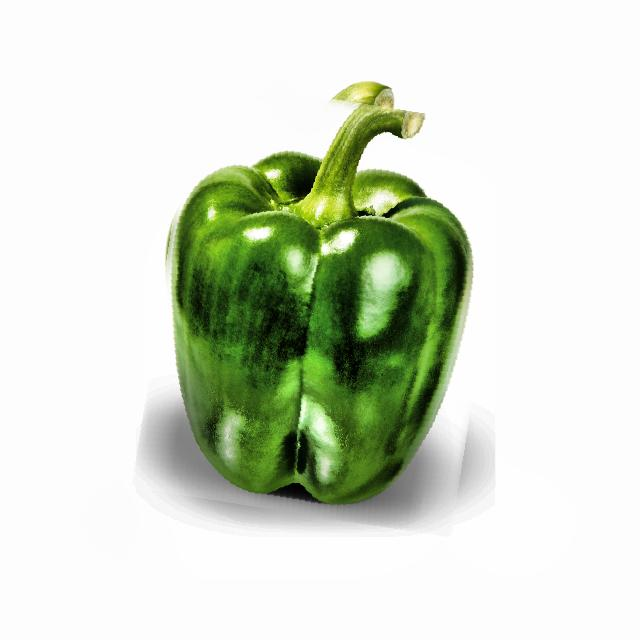capsicum: (148, 89, 502, 526)
